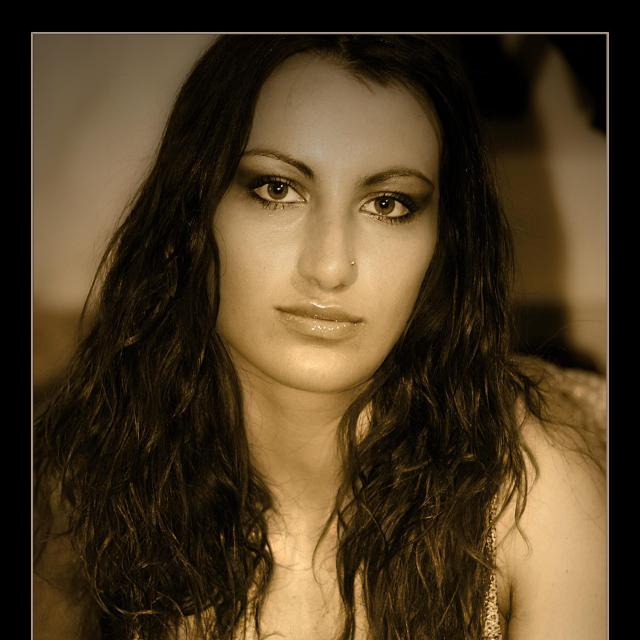no-glass: (234, 180, 409, 212)
